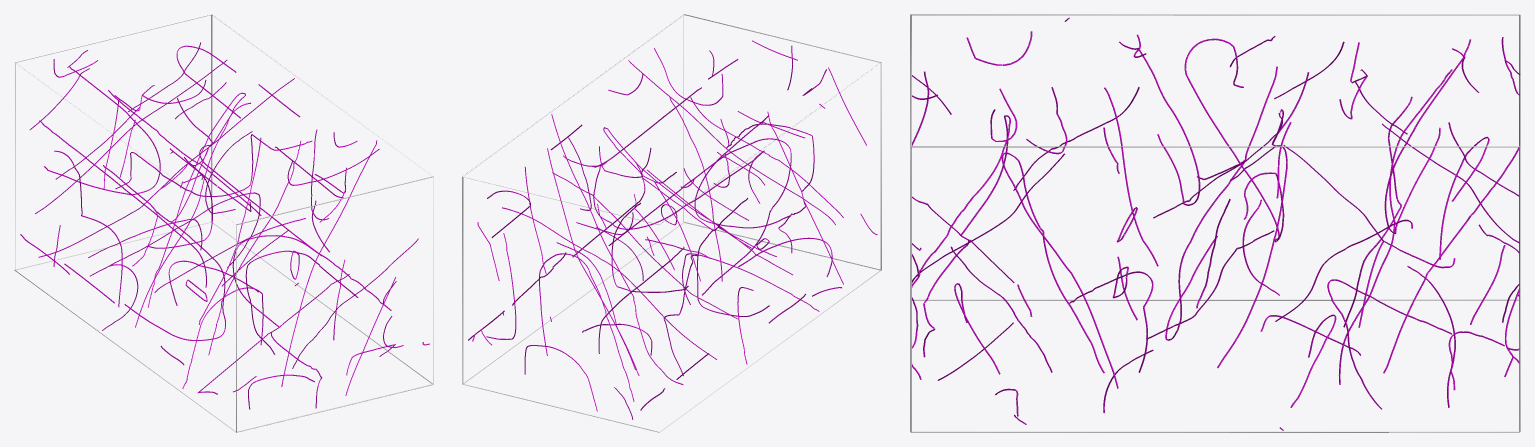
3 views of the same model, side by side, from view 1: azimuth 30°, elevation 25°; view 2: azimuth 150°, elevation 25°; view 3: azimuth 270°, elevation 25° (orthographic). The views are drawn at different scales.
Visible parts, largest first — view 1: Shape_IndexedLineSet.001, Shape_IndexedLineSet; view 2: Shape_IndexedLineSet.001, Shape_IndexedLineSet; view 3: Shape_IndexedLineSet.001, Shape_IndexedLineSet.
Boxes of the visible parts, box(x1,y1,x2,y2) form: Shape_IndexedLineSet.001: box(20, 42, 429, 409); Shape_IndexedLineSet: box(14, 14, 433, 432); Shape_IndexedLineSet.001: box(468, 40, 877, 419); Shape_IndexedLineSet: box(462, 14, 881, 432); Shape_IndexedLineSet.001: box(912, 17, 1520, 430); Shape_IndexedLineSet: box(910, 14, 1520, 432).
Bounding box in the file's own units: 235 × 237 × 457.
